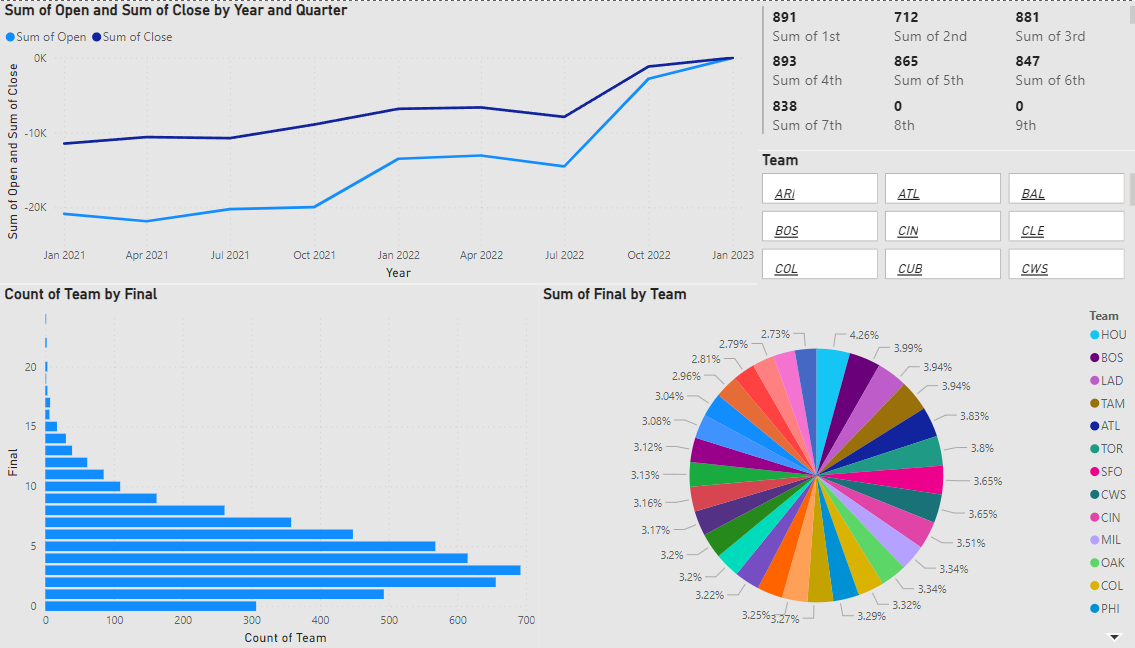

This screenshot's page, from the dashboard's own definition file:
{"tool":"powerbi","page":{"name":"Page 1","canvas":[1280,720],"ordinal":0},"visuals":[{"type":"lineChart","fields":{"Category":["Basketball.Date.Variation.Date Hierarchy.Year","Basketball.Date.Variation.Date Hierarchy.Quarter","Basketball.Date.Variation.Date Hierarchy.Month","Basketball.Date.Variation.Date Hierarchy.Day"],"Y":["Sum(Basketball.Open)","Sum(Basketball.Close)"]},"box":[9.4,0,842.8,313.7],"z":0},{"type":"barChart","fields":{"Y":["CountNonNull(Basketball.Team)"],"Category":["Basketball.Final"]},"box":[9.4,315.6,599.1,404.4],"z":1000},{"type":"pieChart","fields":{"Category":["Basketball.Team"],"Y":["Sum(Basketball.Final)"]},"box":[608.5,315.6,670.9,404.4],"z":2000},{"type":"multiRowCard","fields":{"Values":["Sum(Basketball.1st)","Sum(Basketball.2nd)","Sum(Basketball.3rd)","Sum(Basketball.4th)","Sum(Basketball.5th)","Sum(Basketball.6th)","Sum(Basketball.7th)","Basketball.8th","Basketball.9th"]},"box":[852.3,0,427.1,166.3],"z":3000},{"type":"advancedSlicerVisual","fields":{"Values":["Basketball.Team"]},"box":[852,166,427,150],"z":5000}]}

Visuals, with their boxes in screenshot pixels (x1, y1, x2, y2), scaled from the page's 1280x720 canvas onto the 1135x648 screenshot:
lineChart - Basketball.Date.Variation.Date Hierarchy.Year x Basketball.Date.Variation.Date Hierarchy.Quarter: bbox(8, 0, 756, 282)
barChart - CountNonNull(Basketball.Team) x Basketball.Final: bbox(8, 284, 540, 647)
pieChart - Basketball.Team x Sum(Basketball.Final): bbox(540, 284, 1134, 647)
multiRowCard - Sum(Basketball.1st) x Sum(Basketball.2nd): bbox(756, 0, 1134, 150)
advancedSlicerVisual - Basketball.Team: bbox(755, 149, 1134, 284)
